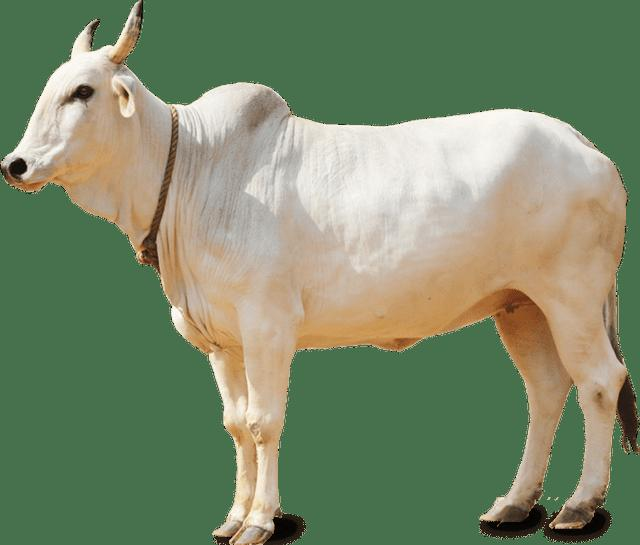cow: (0, 0, 637, 544)
